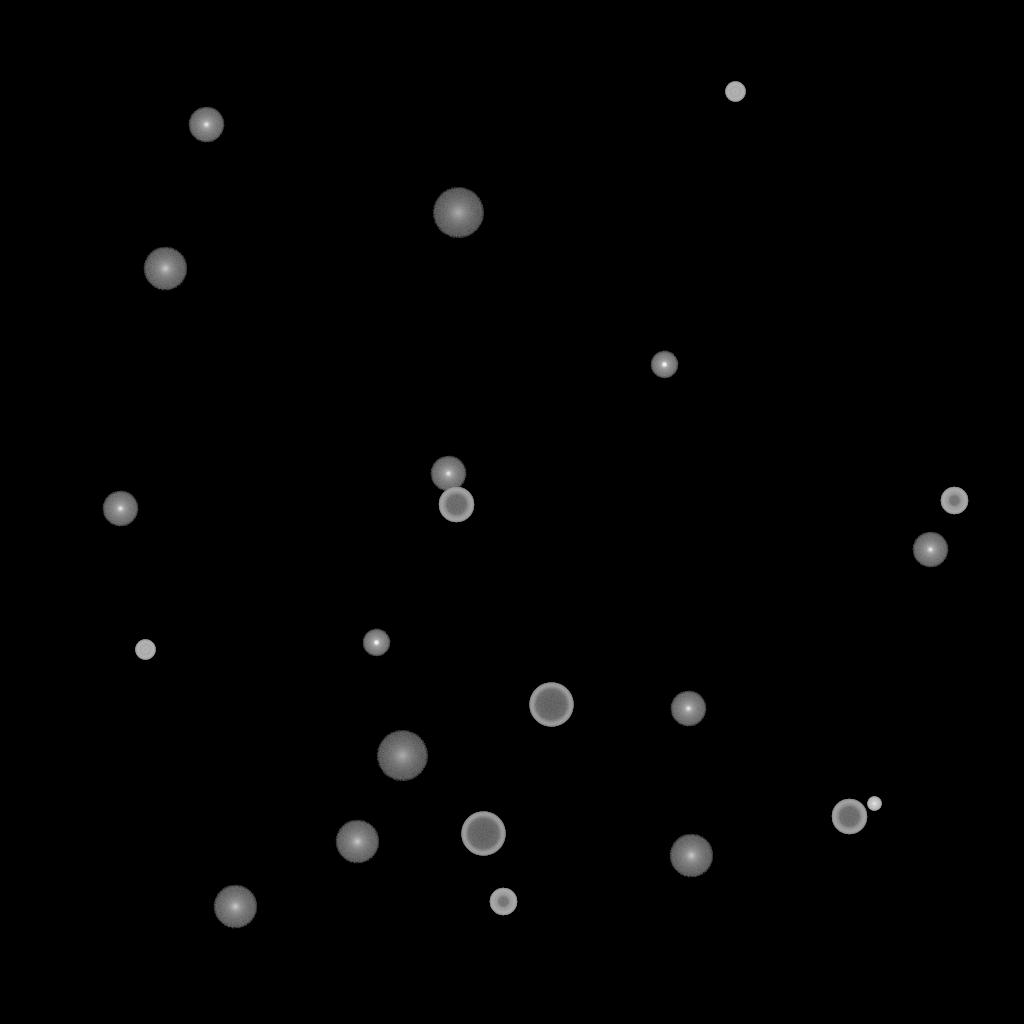depth:-10: (362, 629, 390, 657), (650, 351, 678, 379)
depth:-30: (867, 797, 881, 811)
depth:-40: (135, 640, 155, 660), (725, 82, 745, 102)
depth:-50: (489, 888, 517, 916), (940, 487, 968, 515)
depth:-60: (831, 799, 867, 835), (438, 487, 474, 523)
depth:-70: (461, 812, 505, 856), (529, 683, 573, 727)
depth:0: (670, 691, 706, 727), (102, 491, 138, 527), (430, 456, 466, 492), (912, 532, 948, 568), (188, 107, 224, 143)
depth:10: (143, 247, 187, 291), (335, 820, 379, 864), (669, 834, 713, 878), (213, 885, 257, 929)
depth:20: (432, 188, 484, 238), (376, 731, 428, 781)
